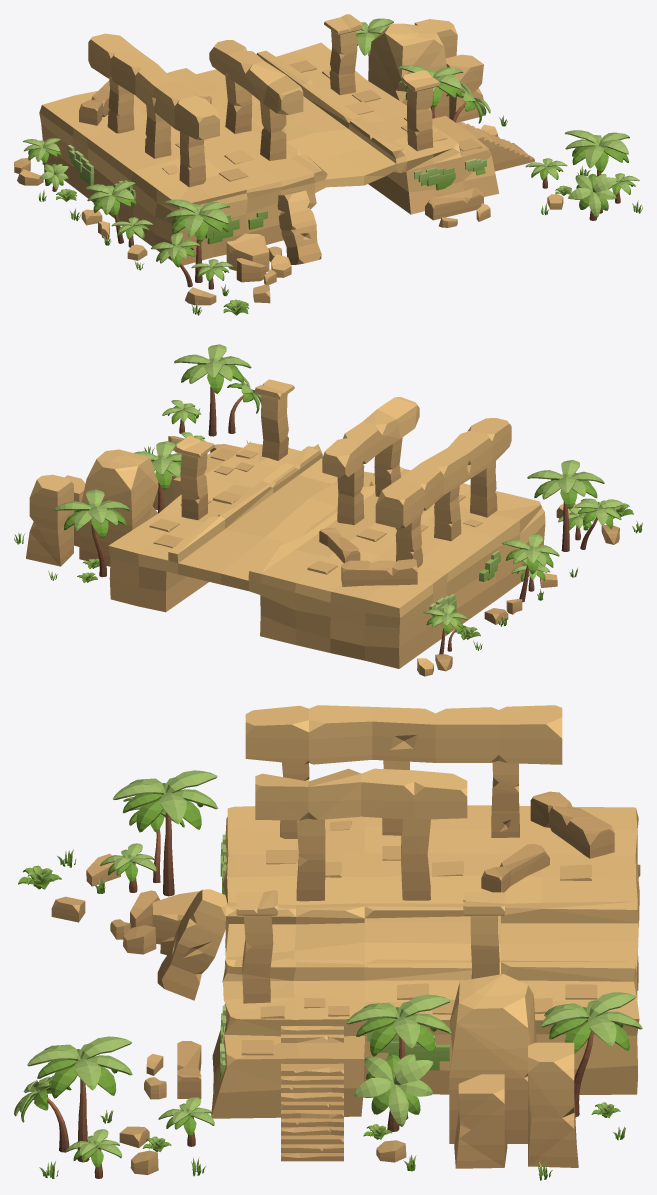
Rendered from field_15.glb.
3 views of the same model, one above another, from view 1: azimuth 30°, elevation 25°; view 2: azimuth 150°, elevation 25°; view 3: azimuth 270°, elevation 25° (orthographic). The views are drawn at different scales.
Visible parts, largest first — view 1: desert stone ruins 2_37, desert stone arche 3_52, desert stone arche 2_5, desert stone large_43, desert stones group_1, desert stone large 4_36, desert stone large 7 (1)_3, desert stone large 7_0, palm tree large_12, palm tree large (1)_56, desert stone large 3_20, palm tree tilted_11 (+14 smaller); view 2: desert stone ruins 2_37, desert stone arche 3_52, desert stone arche 2_5, desert stone large_43, desert stone large 2_4, desert stone large 7 (1)_3, desert stone large 7_0, palm tree bent (1)_54, palm tree large (1)_56, palm tree large_12, desert stone large 6_32, palm tree large (3)_9 (+6 smaller); view 3: desert stone ruins 2_37, desert stone arche 3_52, desert stone arche 2_5, desert stone large_43, desert stone large 2_4, desert stone large 3_20, desert stone large 4_36, palm tree large_12, palm tree large (1)_56, palm tree bent (1)_54, palm tree large (2)_49, palm tree tilted (1)_40 (+12 smaller).
Boxes of the visible parts, box(x1,y1,x2,y2) form: desert stone ruins 2_37: box(39, 42, 534, 265); desert stone arche 3_52: box(88, 33, 219, 187); desert stone arche 2_5: box(209, 40, 303, 160); desert stone large_43: box(368, 23, 449, 117); desert stones group_1: box(226, 233, 291, 285); desert stone large 4_36: box(277, 190, 321, 264); desert stone large 7 (1)_3: box(324, 14, 362, 95); desert stone large 7_0: box(401, 70, 439, 151); palm tree large_12: box(164, 199, 229, 282); palm tree large (1)_56: box(564, 130, 629, 213); desert stone large 3_20: box(445, 54, 485, 122); palm tree tilted_11: box(568, 173, 616, 220); desert stone ruins 2_37: box(108, 442, 545, 668); desert stone arche 3_52: box(375, 418, 511, 567); desert stone arche 2_5: box(322, 397, 419, 525); desert stone large_43: box(79, 449, 158, 566); desert stone large 2_4: box(26, 474, 73, 566); desert stone large 7 (1)_3: box(174, 436, 214, 519); desert stone large 7_0: box(254, 379, 294, 460); palm tree bent (1)_54: box(53, 489, 130, 577); palm tree large (1)_56: box(174, 344, 251, 436); palm tree large_12: box(527, 460, 604, 551); desert stone large 6_32: box(341, 559, 417, 586); palm tree large (3)_9: box(502, 534, 559, 602); desert stone ruins 2_37: box(211, 805, 639, 1161); desert stone arche 3_52: box(245, 705, 562, 838); desert stone arche 2_5: box(255, 768, 467, 901); desert stone large_43: box(449, 974, 536, 1143); desert stone large 2_4: box(528, 1042, 578, 1167); desert stone large 3_20: box(454, 1074, 507, 1168); desert stone large 4_36: box(157, 889, 226, 1000); palm tree large_12: box(113, 770, 218, 896); palm tree large (1)_56: box(27, 1036, 132, 1162); palm tree bent (1)_54: box(540, 992, 642, 1116); palm tree large (2)_49: box(346, 994, 451, 1119); palm tree tilted (1)_40: box(353, 1054, 433, 1131).
Size of the model in its own units: 20.51 by 6.6 by 16.62.
Materials: 1 (1 with a texture image).
